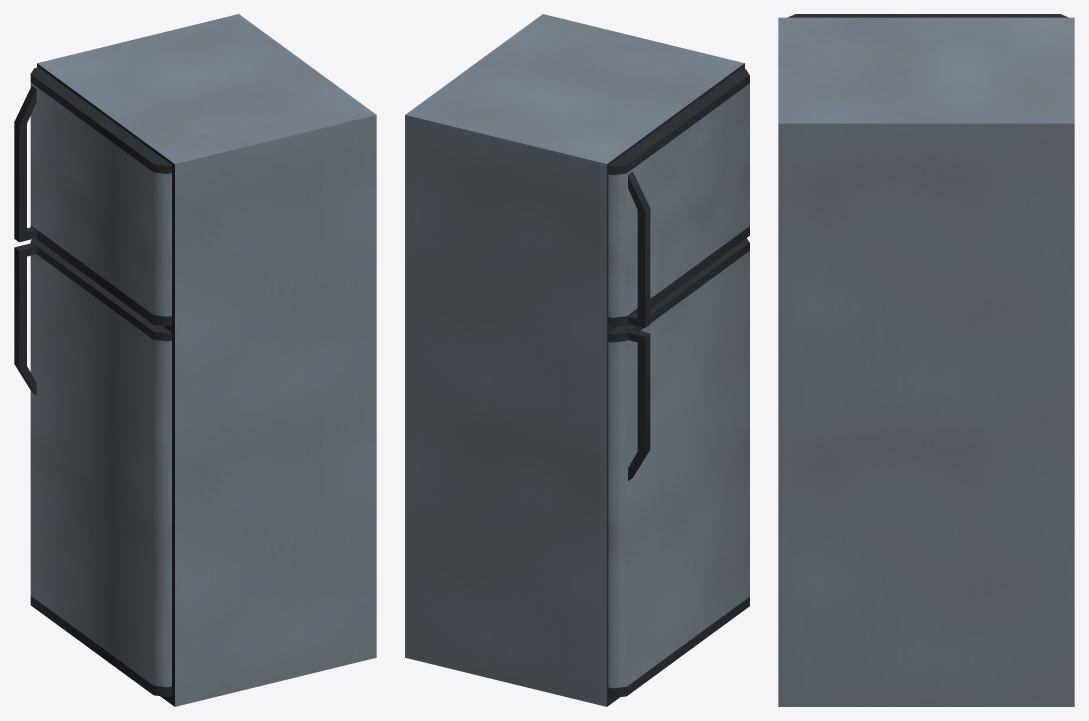
The model's file is Refrigerator-col.glb.
3 views of the same model, side by side, from view 1: azimuth 30°, elevation 25°; view 2: azimuth 150°, elevation 25°; view 3: azimuth 270°, elevation 25° (orthographic). The views are drawn at different scales.
Visible parts, largest first — view 1: Refrigerator-col, Refrigerator_door_01, Refrigerator_door; view 2: Refrigerator-col, Refrigerator_door_01, Refrigerator_door; view 3: Refrigerator-col, Refrigerator_door.
Boxes of the visible parts, x1=… form: Refrigerator-col: x1=37, y1=14, x2=376, y2=706; Refrigerator_door_01: x1=14, y1=238, x2=171, y2=696; Refrigerator_door: x1=14, y1=67, x2=171, y2=326; Refrigerator-col: x1=405, y1=14, x2=744, y2=706; Refrigerator_door_01: x1=608, y1=238, x2=749, y2=697; Refrigerator_door: x1=608, y1=68, x2=749, y2=327; Refrigerator-col: x1=778, y1=17, x2=1074, y2=706; Refrigerator_door: x1=787, y1=14, x2=1068, y2=17.
Size of the model in its own units: 0.9352 by 2.09 by 0.9612.
Materials: 4 (3 with a texture image).
